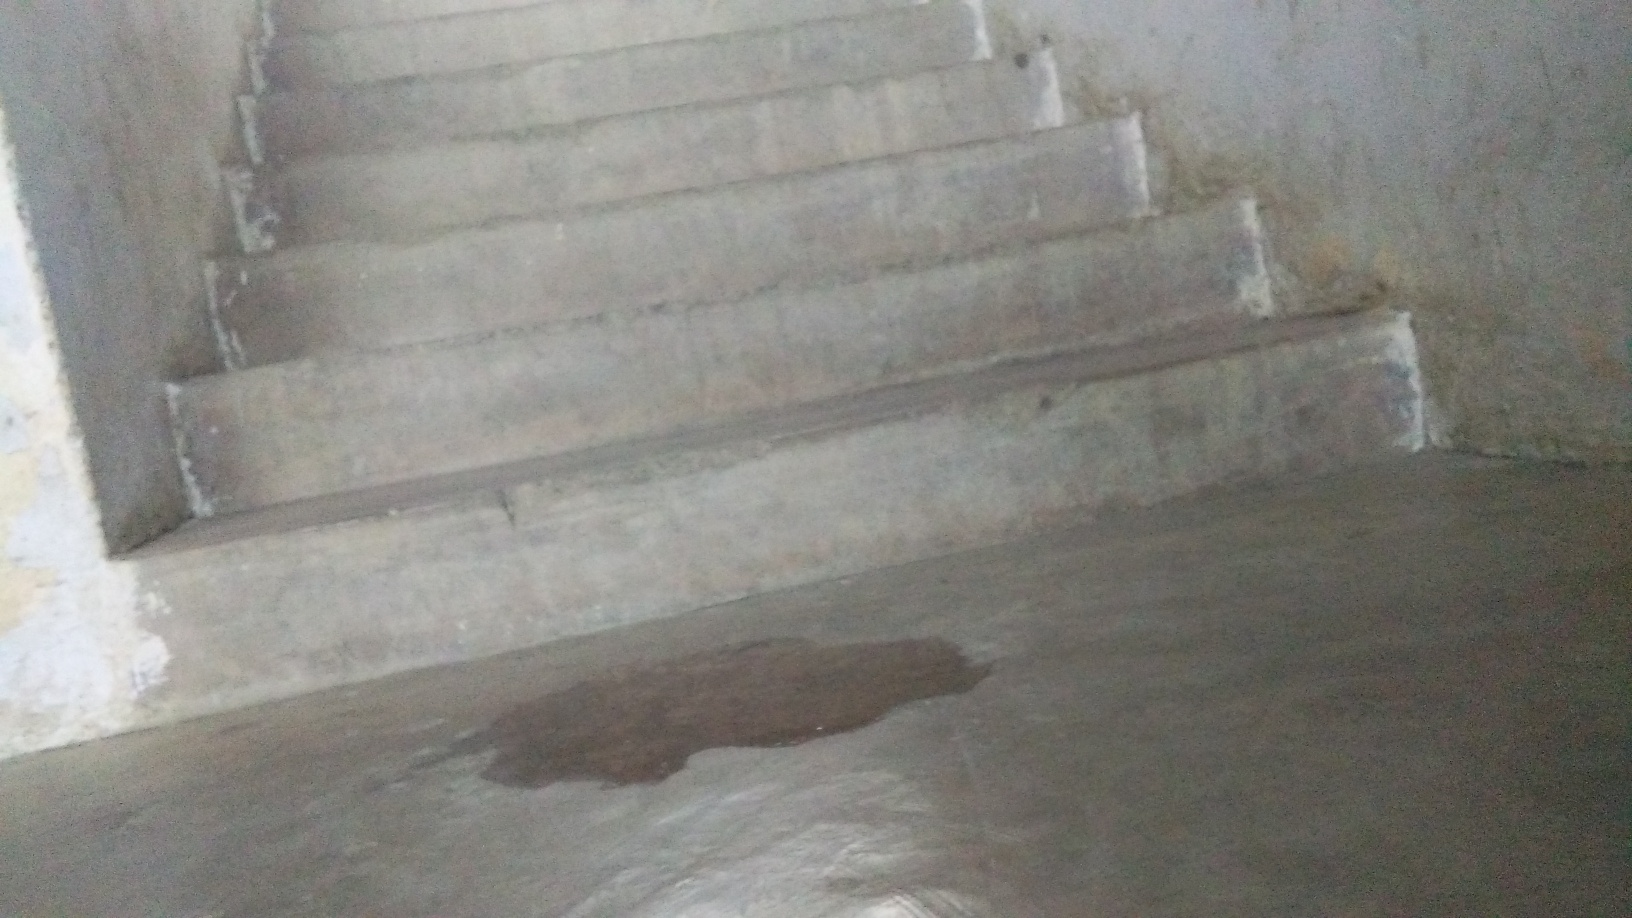stairs_up: (148, 10, 1385, 600)
